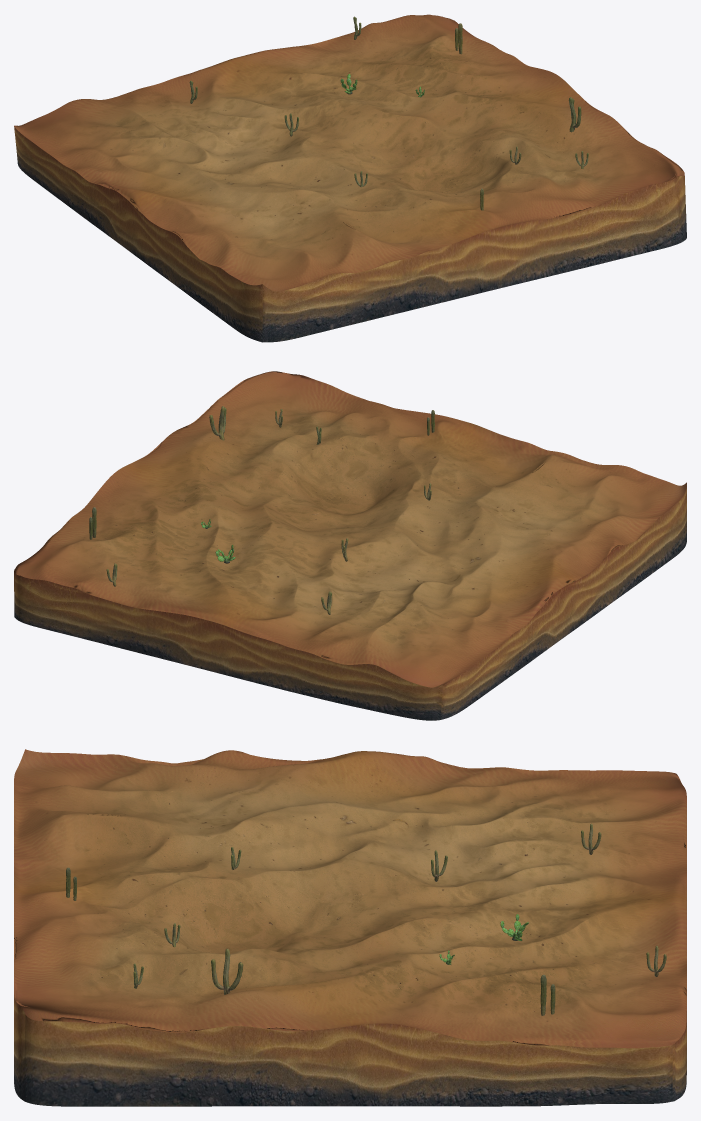
The model's file is desert.gltf.
The picture shows the model from 3 angles, top to bottom: view 1: azimuth 30°, elevation 25°; view 2: azimuth 150°, elevation 25°; view 3: azimuth 270°, elevation 25°; orthographic projection. The views are drawn at different scales.
Parts seen in each view (by area): view 1: Grid; view 2: Grid; view 3: Grid, Aset_other__M_udugdfvfa_LOD0.001.
Boxes of the visible parts, x1,y1,x2,y2 form: Grid: [14, 14, 686, 342]; Grid: [14, 371, 686, 720]; Grid: [14, 749, 686, 1106]; Aset_other__M_udugdfvfa_LOD0.001: [211, 948, 243, 994].
Size of the model in its own units: 250 by 53.34 by 250.
6 materials, 6 textured.
